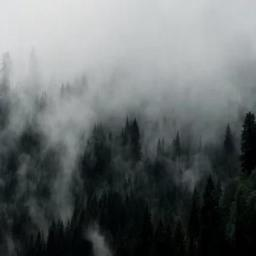Heavy smoke: (0, 0, 255, 166)
